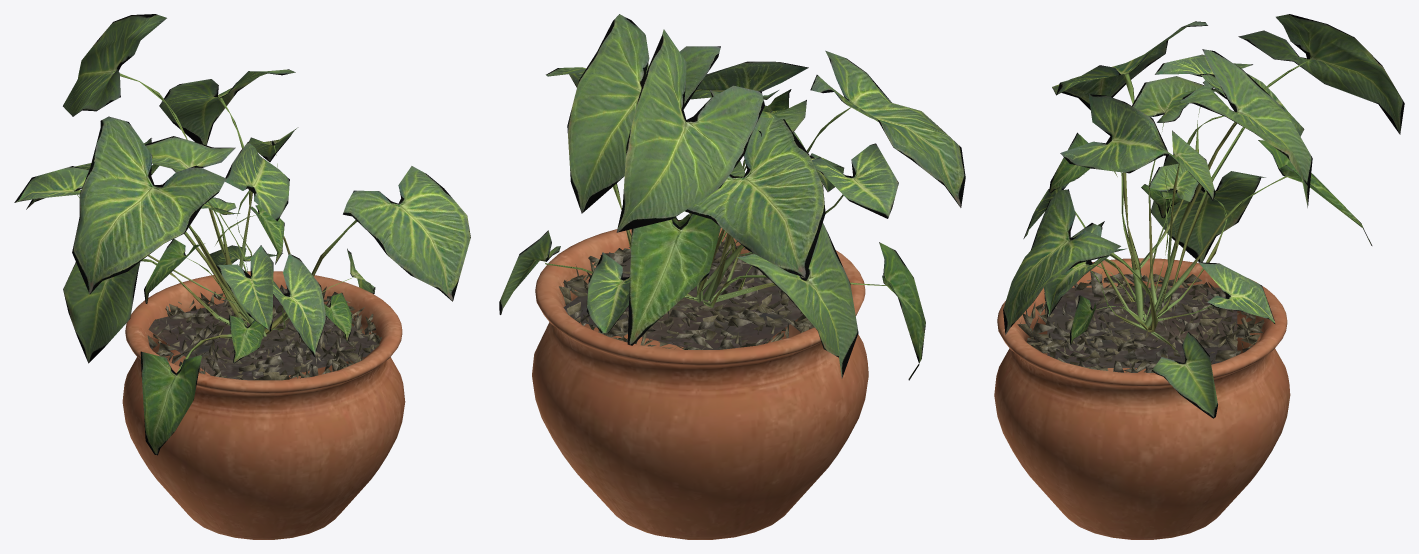
Rendered from potted_plant_02.glb.
3 renders of one model, left to right at view 1: azimuth 30°, elevation 25°; view 2: azimuth 150°, elevation 25°; view 3: azimuth 270°, elevation 25°, orthographic. The views are drawn at different scales.
Visible parts, largest first — view 1: potted_plant_02_leaves, potted_plant_02_pot, potted_plant_02_dirt; view 2: potted_plant_02_leaves, potted_plant_02_pot, potted_plant_02_dirt; view 3: potted_plant_02_leaves, potted_plant_02_pot, potted_plant_02_dirt.
Boxes of the visible parts, x1,y1,x2,y2 form: potted_plant_02_leaves: (14,14,470,455); potted_plant_02_pot: (122,271,405,539); potted_plant_02_dirt: (147,285,381,380); potted_plant_02_leaves: (499,14,965,380); potted_plant_02_pot: (532,220,868,539); potted_plant_02_dirt: (559,236,813,349); potted_plant_02_leaves: (1003,14,1404,418); potted_plant_02_pot: (994,258,1290,539); potted_plant_02_dirt: (1017,270,1264,372).
Bounding box in the file's own units: 0.6989 × 0.8378 × 0.6574.
Materials: 2 (2 with a texture image).
